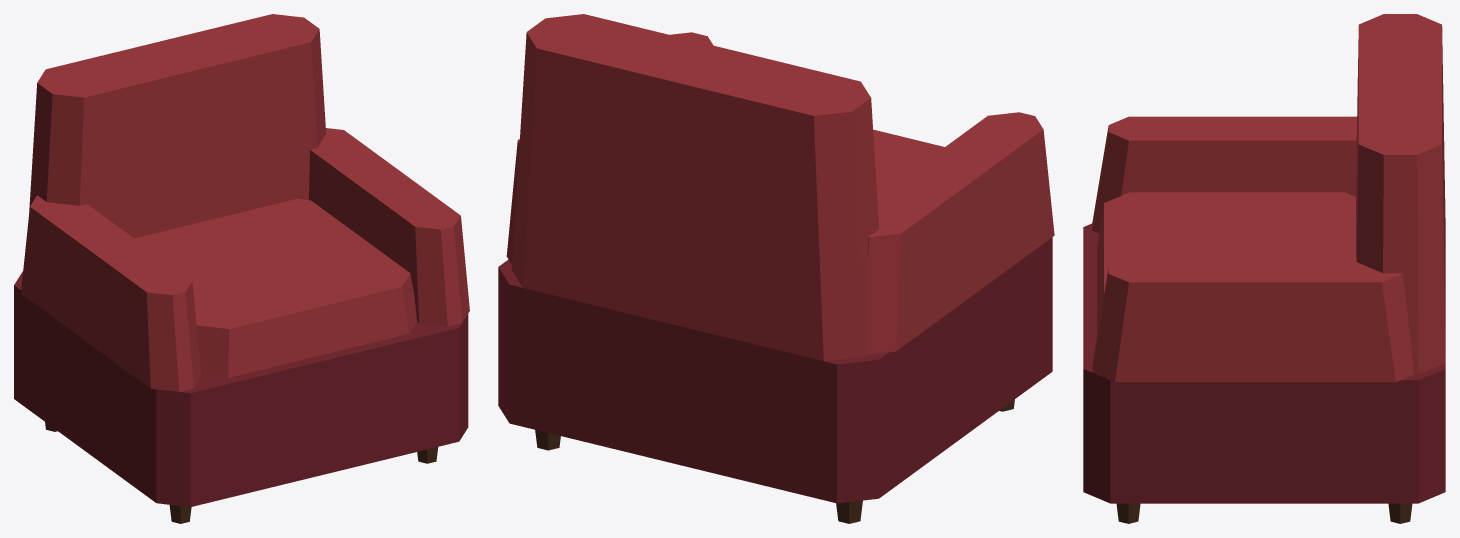
File: armchair.obj
The picture shows the model from 3 angles, left to right: view 1: azimuth 30°, elevation 25°; view 2: azimuth 150°, elevation 25°; view 3: azimuth 270°, elevation 25°; orthographic projection. The views are drawn at different scales.
Parts seen in each view (by area): view 1: armchair; view 2: armchair; view 3: armchair.
Boxes of the visible parts, <box> form: armchair: <box>14,14,469,523</box>; armchair: <box>498,14,1054,523</box>; armchair: <box>1083,14,1445,523</box>.
Size of the model in its own units: 0.88 by 0.9 by 0.8.
